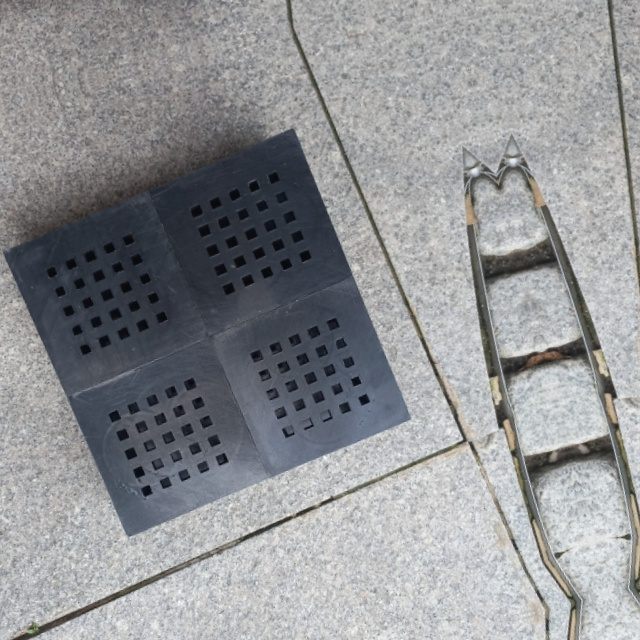pallet: (4, 117, 423, 540)
